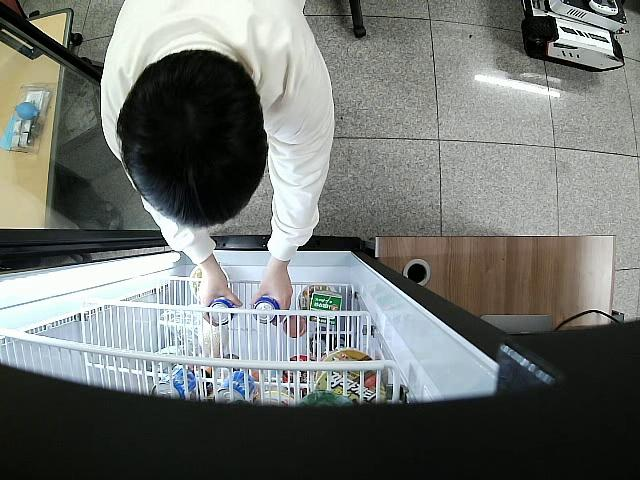00_hand: (250, 269, 294, 326), (199, 273, 243, 326)
13_pocariSweat: (207, 300, 235, 327), (253, 296, 279, 323)
